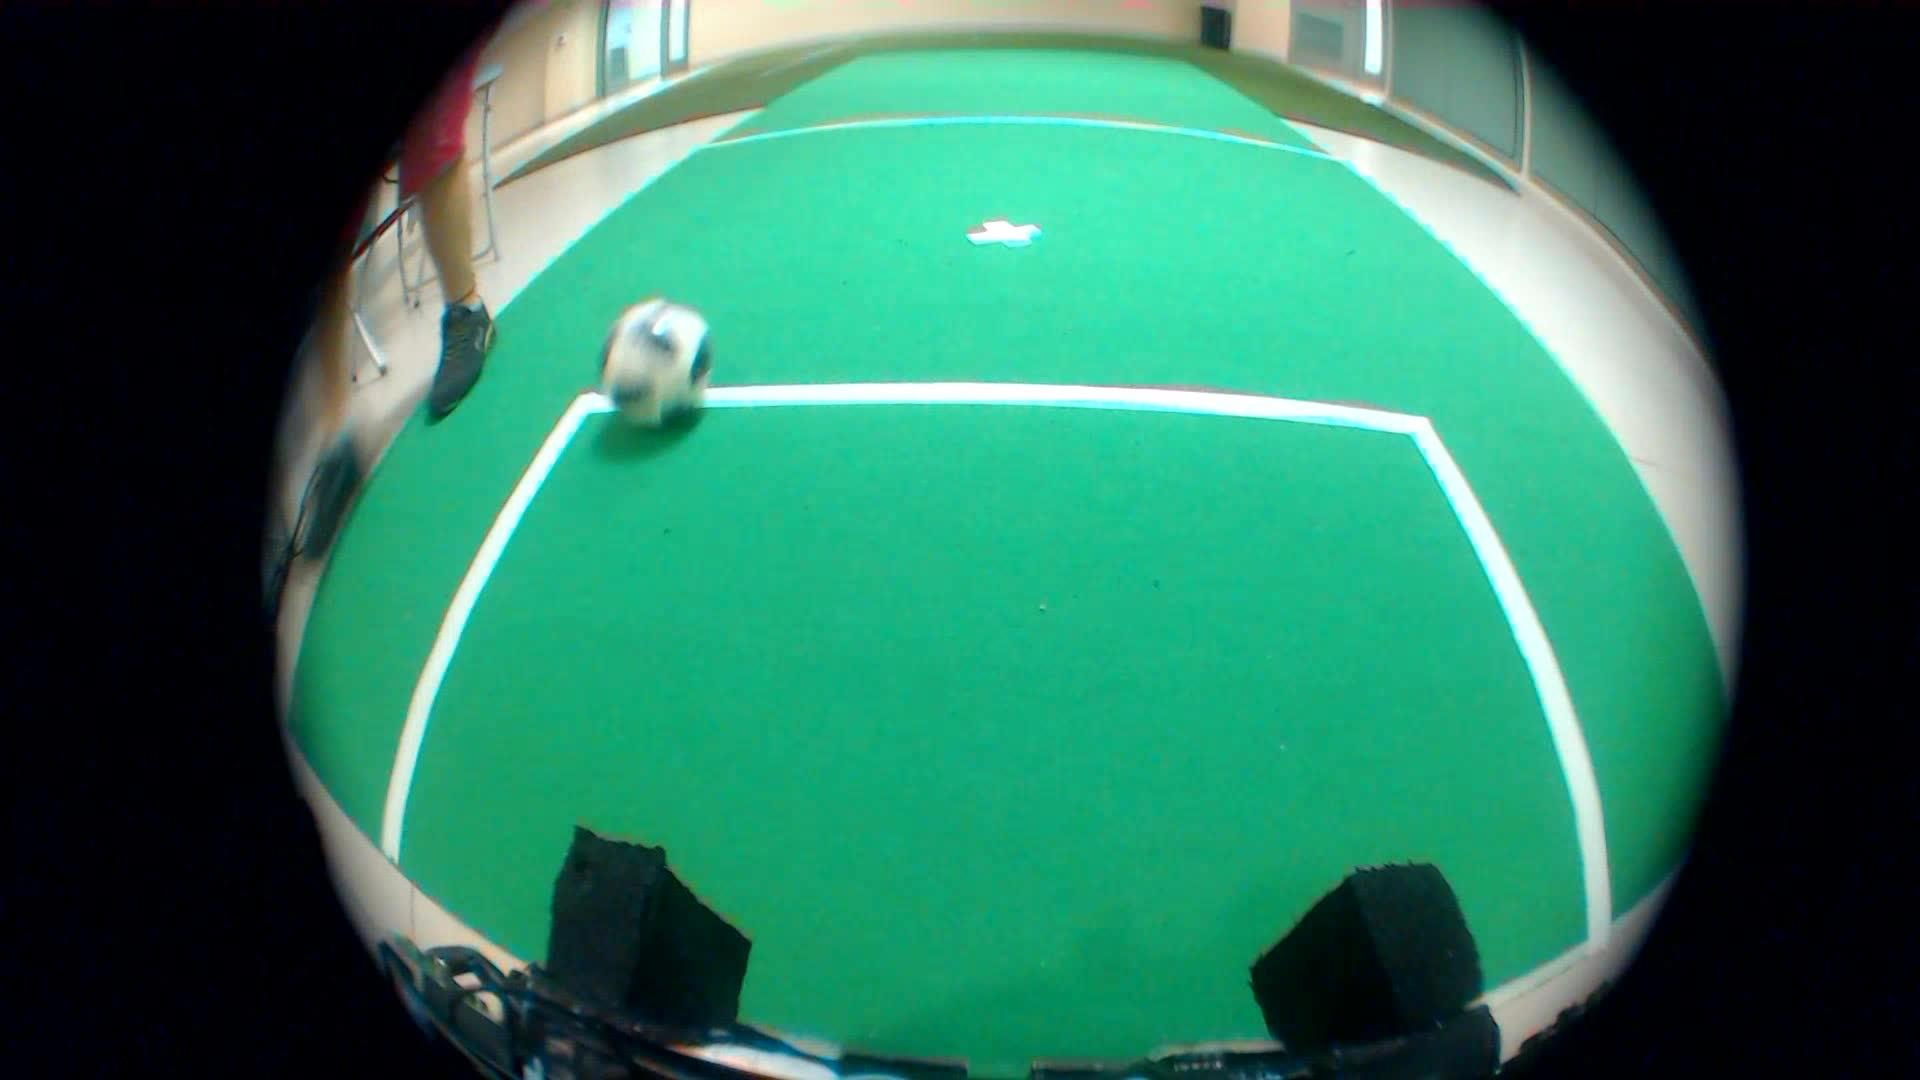ball: (588, 281, 731, 431)
